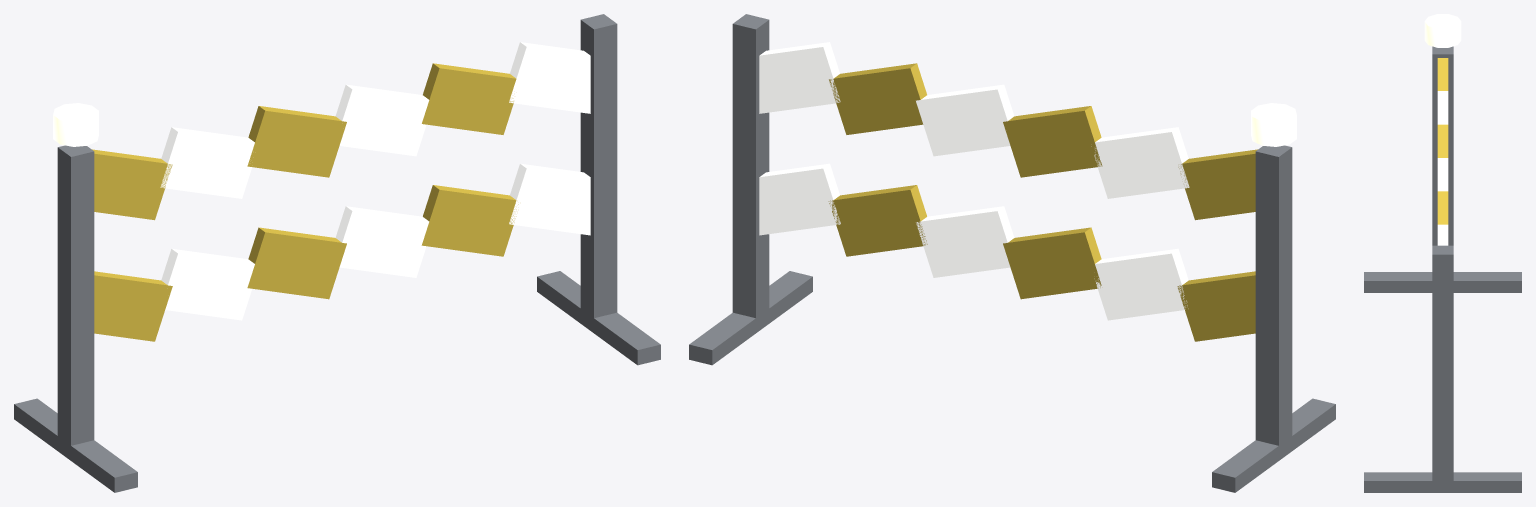
Rendered from prop_barrier.glb.
3 views of the same model, side by side, from view 1: azimuth 30°, elevation 25°; view 2: azimuth 150°, elevation 25°; view 3: azimuth 270°, elevation 25° (orthographic). The views are drawn at different scales.
Visible parts, largest first — view 1: prop_barrier; view 2: prop_barrier; view 3: prop_barrier.
Part boxes in pixels (x1,y1,x2,y2): prop_barrier: [14, 14, 660, 492]; prop_barrier: [689, 14, 1335, 492]; prop_barrier: [1364, 14, 1521, 492].
Size of the model in its own units: 1.91 by 1.12 by 0.6.
